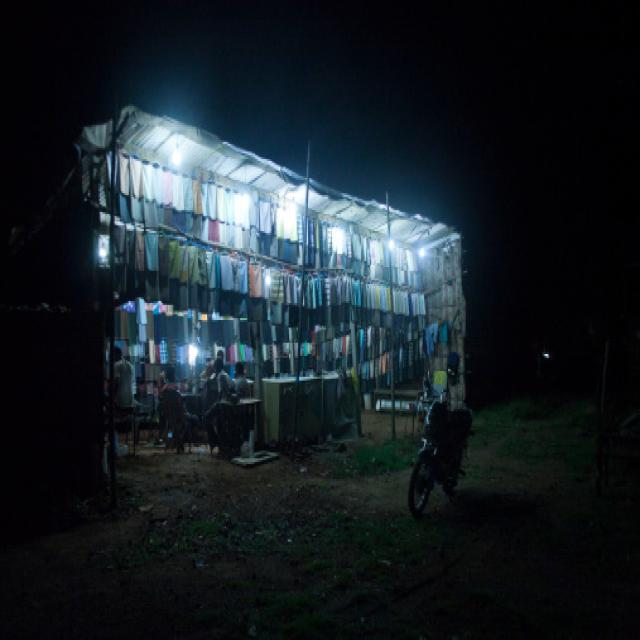Motorbike: (402, 374, 508, 529)
People: (152, 333, 205, 455), (209, 347, 248, 444)
